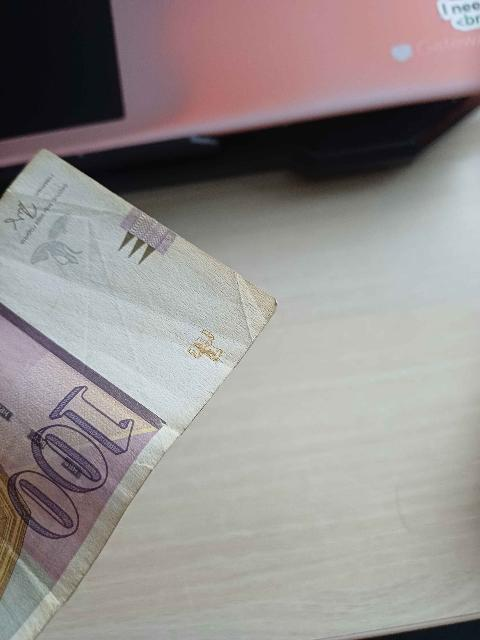100_note: (0, 151, 275, 639)
